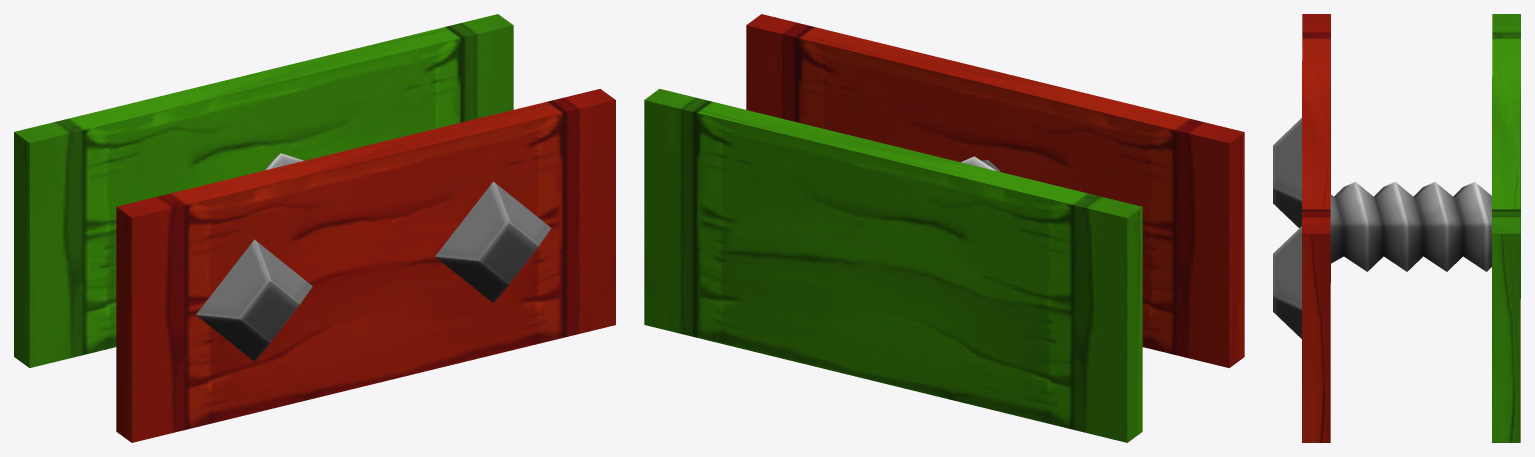
File: fence_burger_01.fbx
3 views of the same model, side by side, from view 1: azimuth 30°, elevation 25°; view 2: azimuth 150°, elevation 25°; view 3: azimuth 270°, elevation 25° (orthographic). The views are drawn at different scales.
Visible parts, largest first — view 1: fence_burger_01; view 2: fence_burger_01; view 3: fence_burger_01.
Boxes of the visible parts, box(x1,y1,x2,y2) form: fence_burger_01: box(14, 14, 615, 442); fence_burger_01: box(644, 14, 1244, 442); fence_burger_01: box(1273, 14, 1520, 442).
Size of the model in its own units: 90.02 by 40 by 42.93.
